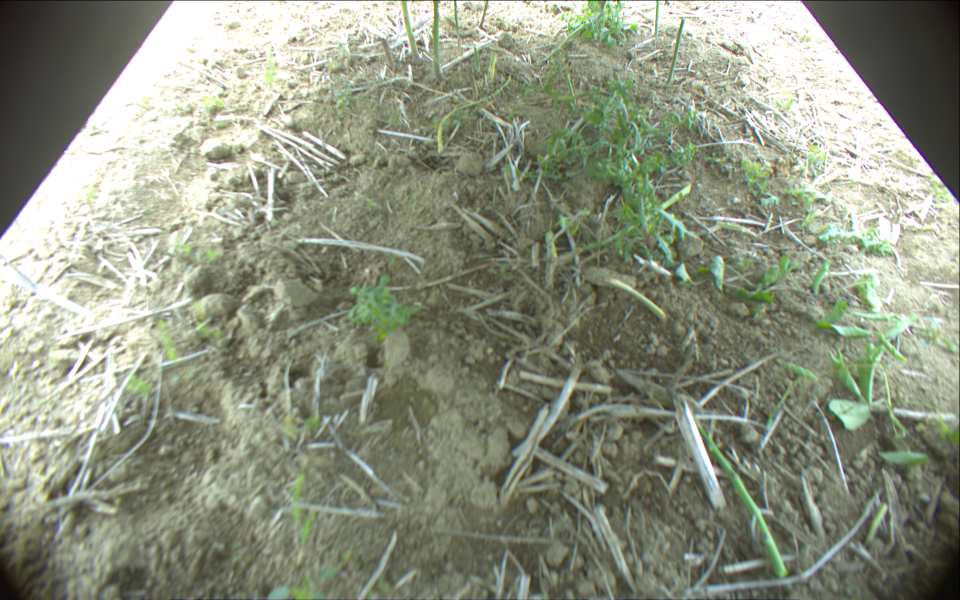aspa: (694, 418, 788, 579), (554, 184, 691, 261), (436, 76, 514, 151), (400, 1, 422, 61), (668, 19, 685, 82), (431, 1, 441, 77), (452, 1, 460, 35), (488, 50, 498, 77), (479, 1, 488, 29), (653, 1, 660, 35), (475, 45, 483, 71)
